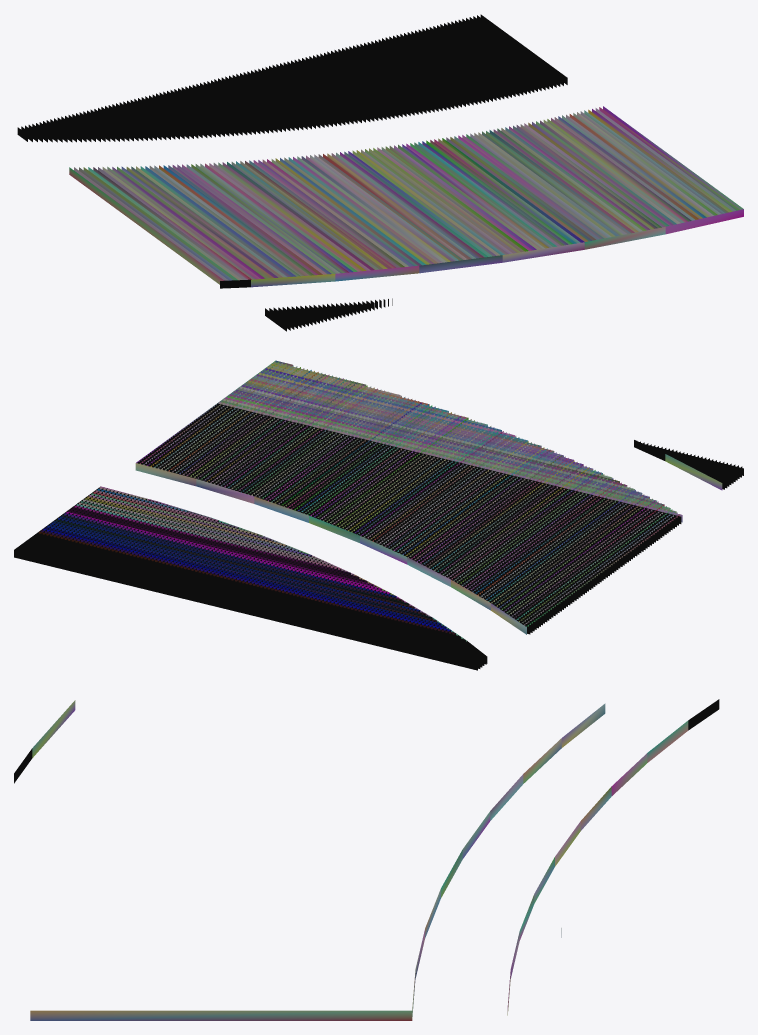
Rendered from Grass_23.gltf.
3 views of the same model, one above another, from view 1: azimuth 30°, elevation 25°; view 2: azimuth 150°, elevation 25°; view 3: azimuth 270°, elevation 25° (orthographic). The views are drawn at different scales.
Parts seen in each view (by area): view 1: Grass_23; view 2: Grass_23; view 3: Grass_23.
Part boxes in pixels (x1,y1,x2,y2): Grass_23: (17, 14, 743, 331); Grass_23: (14, 360, 743, 670); Grass_23: (14, 699, 719, 1020).
Bounding box in the file's own units: 5.12 × 0.1031 × 5.12.
